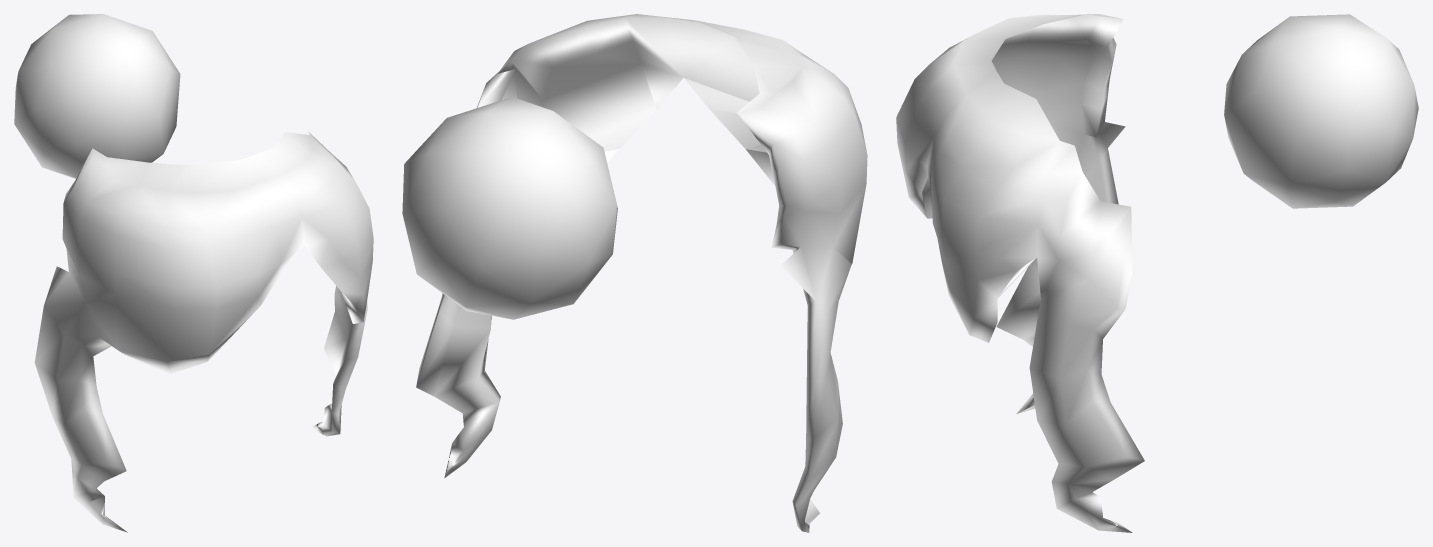
Rendered from Cabelo F 1.glb.
The picture shows the model from 3 angles, left to right: view 1: azimuth 30°, elevation 25°; view 2: azimuth 150°, elevation 25°; view 3: azimuth 270°, elevation 25°; orthographic projection. The views are drawn at different scales.
Parts seen in each view (by area): view 1: Cabelo feminino; view 2: Cabelo feminino; view 3: Cabelo feminino.
Boxes of the visible parts, x1=… form: Cabelo feminino: x1=14, y1=14, x2=373, y2=532; Cabelo feminino: x1=402, y1=14, x2=867, y2=532; Cabelo feminino: x1=896, y1=14, x2=1418, y2=532.
Size of the model in its own units: 0.2393 by 0.2918 by 0.3076.
Materials: 1 (1 with a texture image).
